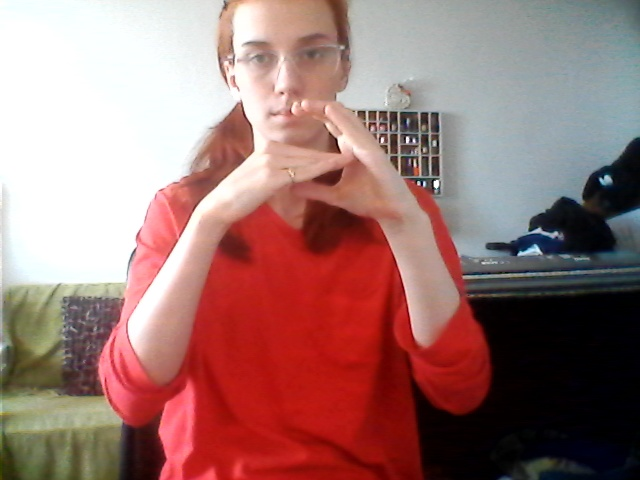e: (212, 97, 409, 248)
